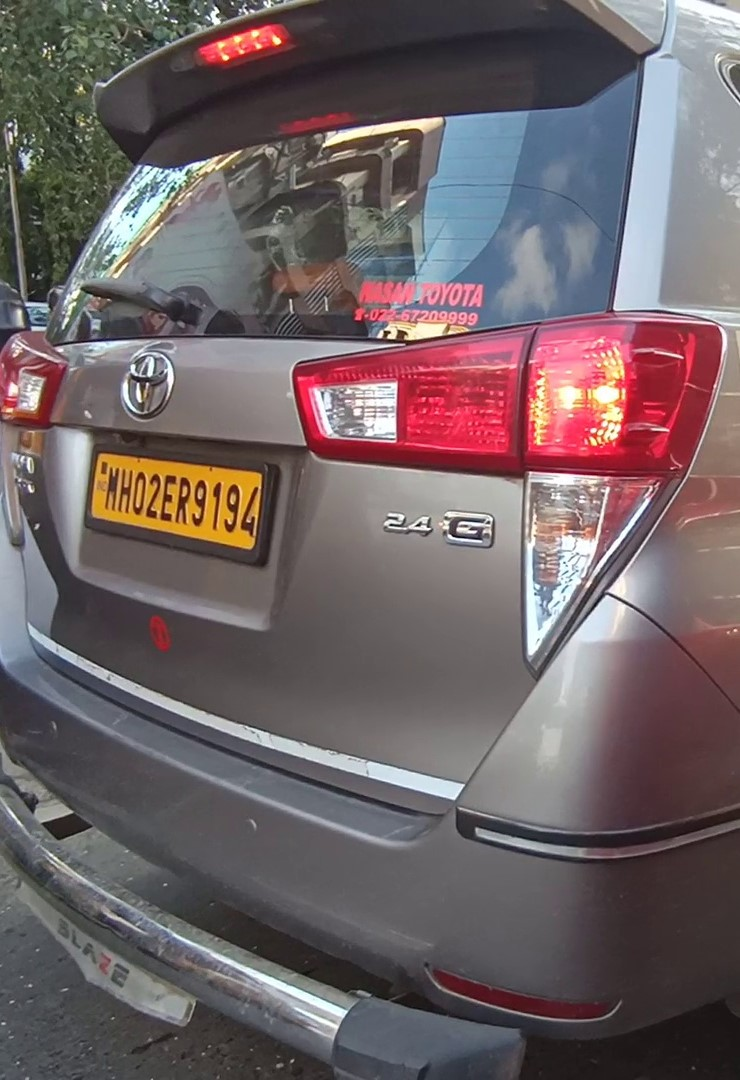MH02ER9194: (89, 444, 262, 548)
